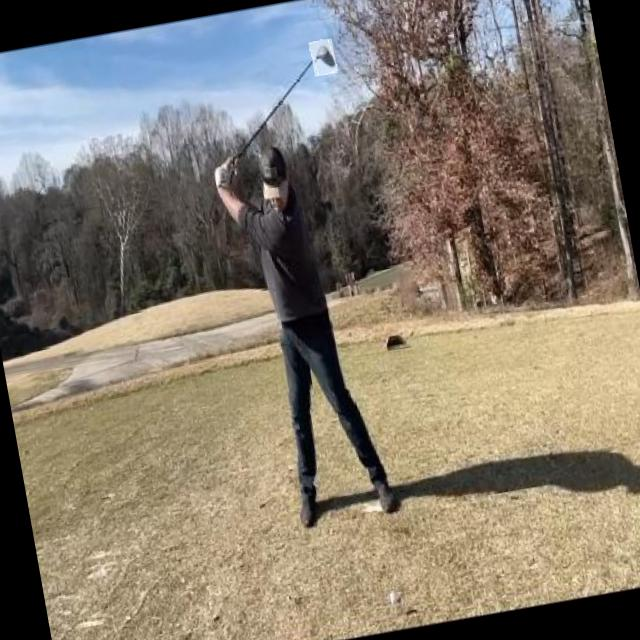club head: (308, 38, 338, 76)
